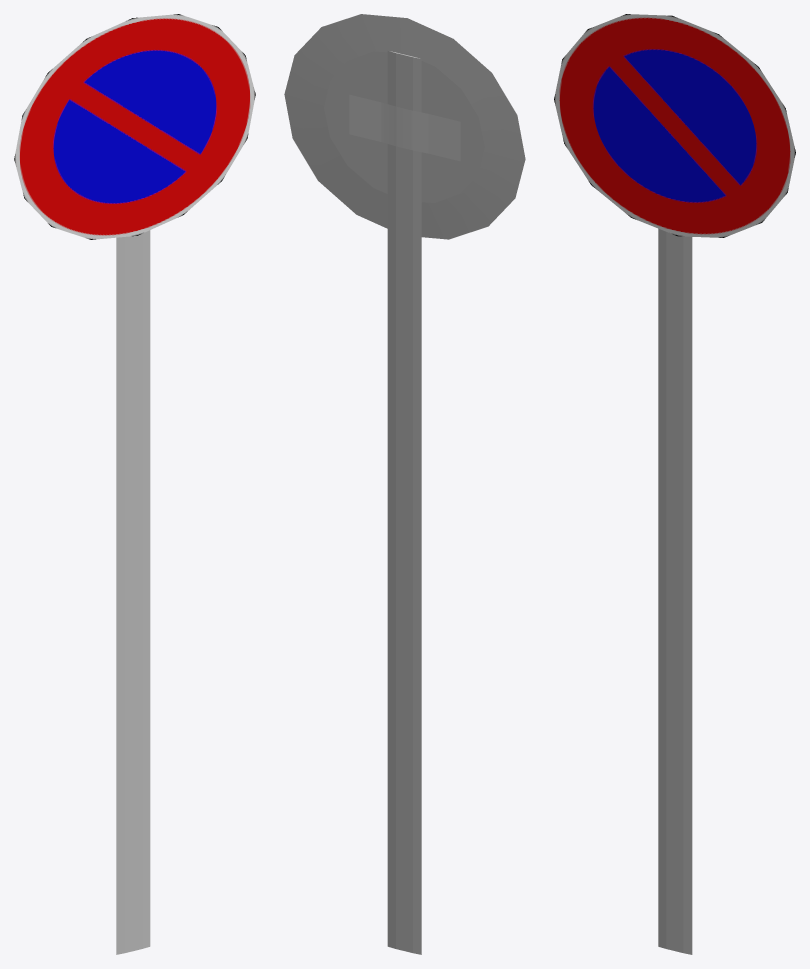
File: parkyasak.dae
3 renders of one model, left to right at view 1: azimuth 30°, elevation 25°; view 2: azimuth 150°, elevation 25°; view 3: azimuth 330°, elevation 25°, orthographic.
Parts seen in each view (by area): view 1: Sign_Circle.005; view 2: Sign_Circle.005; view 3: Sign_Circle.005.
Boxes of the visible parts, x1,y1,x2,y2 form: Sign_Circle.005: (14, 14, 255, 954); Sign_Circle.005: (284, 14, 525, 954); Sign_Circle.005: (554, 14, 795, 954).
Bounding box in the file's own units: 0.6353 × 0.00621 × 2.35.
3 materials, 1 textured.
